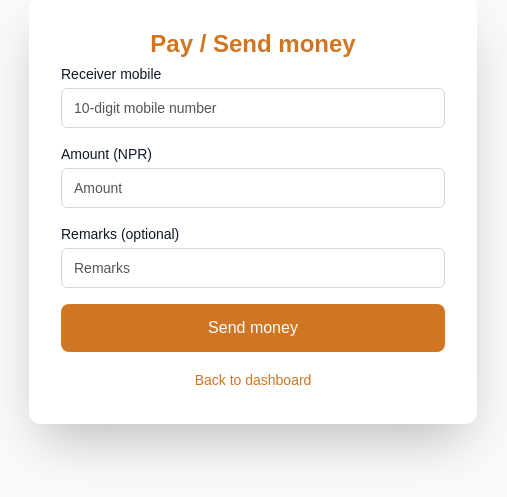
Test: PayPage › shows required validation error
The width and height of the screenshot is (507, 497).
Click the button "Send money" at (253, 328), box [61,304,445,352]
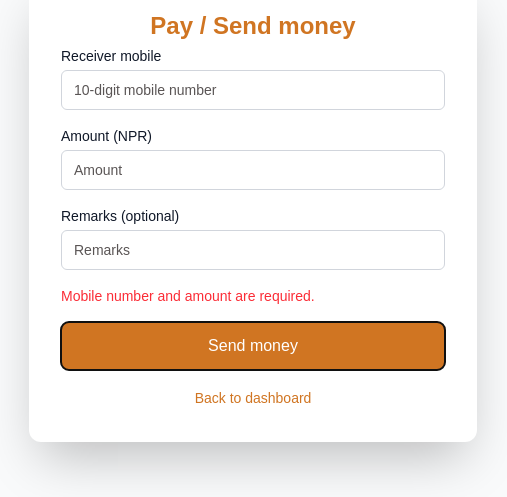
Expected: the text "Mobile number and amount are required." is shown, [61,288,315,304]
